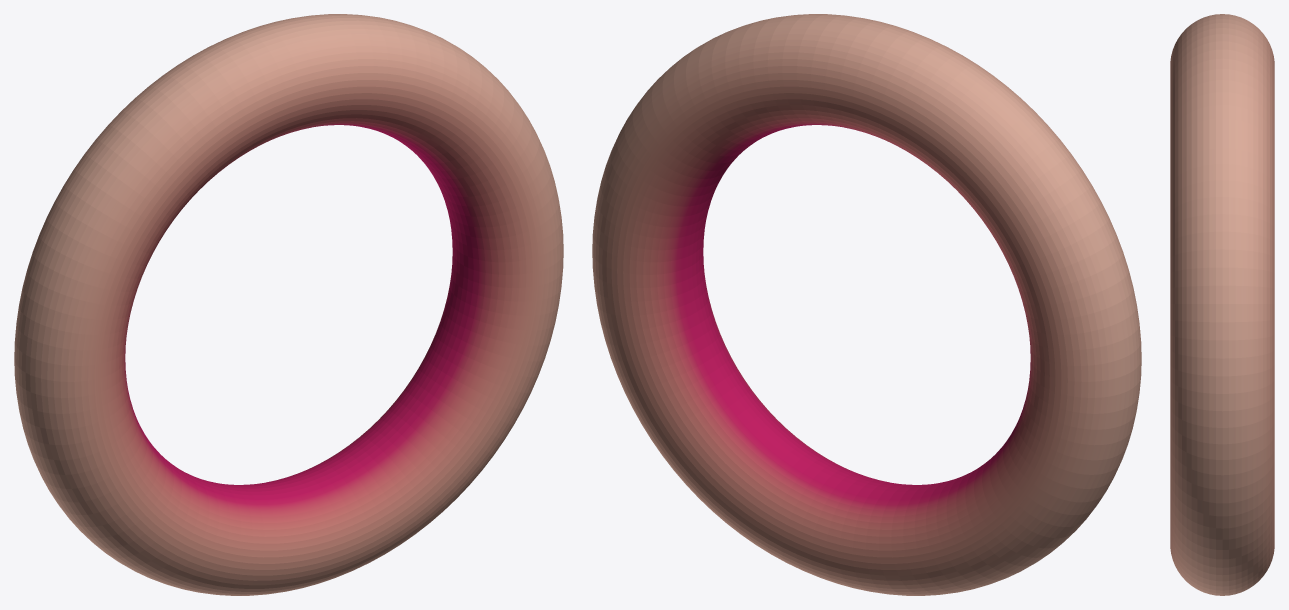
3 renders of one model, left to right at view 1: azimuth 30°, elevation 25°; view 2: azimuth 150°, elevation 25°; view 3: azimuth 270°, elevation 25°, orthographic. The views are drawn at different scales.
Parts seen in each view (by area): view 1: world; view 2: world; view 3: world.
Boxes of the visible parts, box(x1,y1,x2,y2) form: world: box(14, 14, 563, 595); world: box(592, 14, 1141, 595); world: box(1170, 14, 1274, 595).
Bounding box in the file's own units: 33.33 × 33.33 × 5.99.
